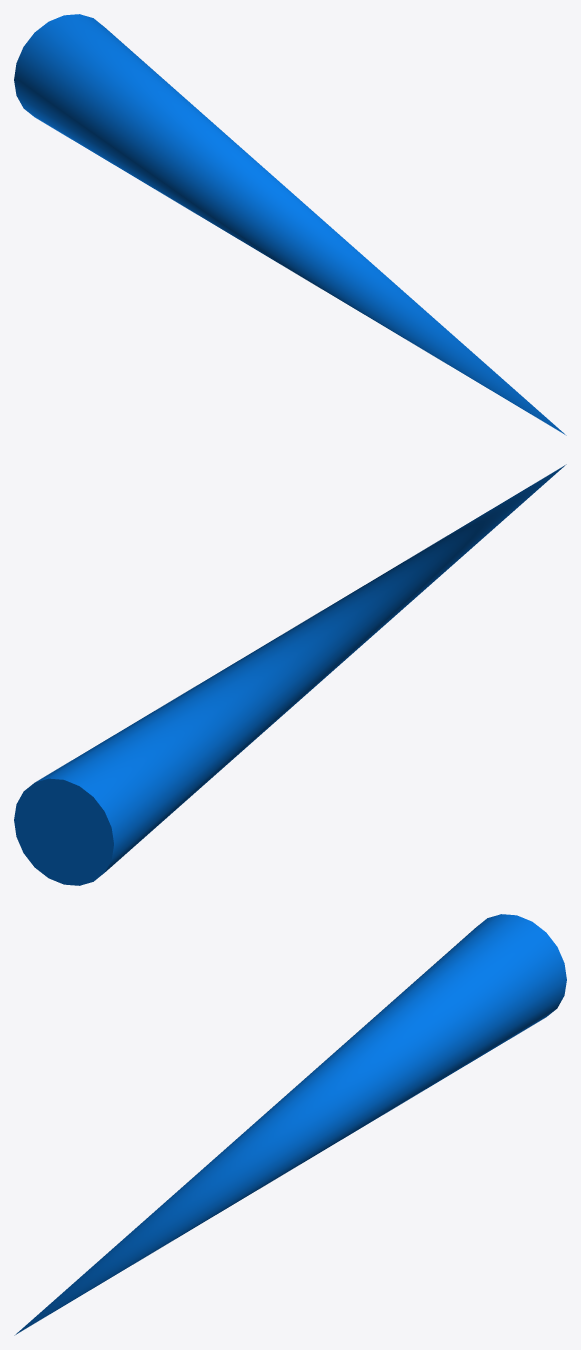
Rendered from BlueBeamGlowing.fbx.
3 views of the same model, one above another, from view 1: azimuth 30°, elevation 25°; view 2: azimuth 150°, elevation 25°; view 3: azimuth 330°, elevation 25° (orthographic).
Visible parts, largest first — view 1: pCone1; view 2: pCone1; view 3: pCone1.
Part boxes in pixels (x1=…): pCone1: x1=14, y1=14, x2=566, y2=435; pCone1: x1=14, y1=464, x2=566, y2=885; pCone1: x1=14, y1=914, x2=566, y2=1335.
Bounding box in the file's own units: 69.03 × 69.03 × 600.
